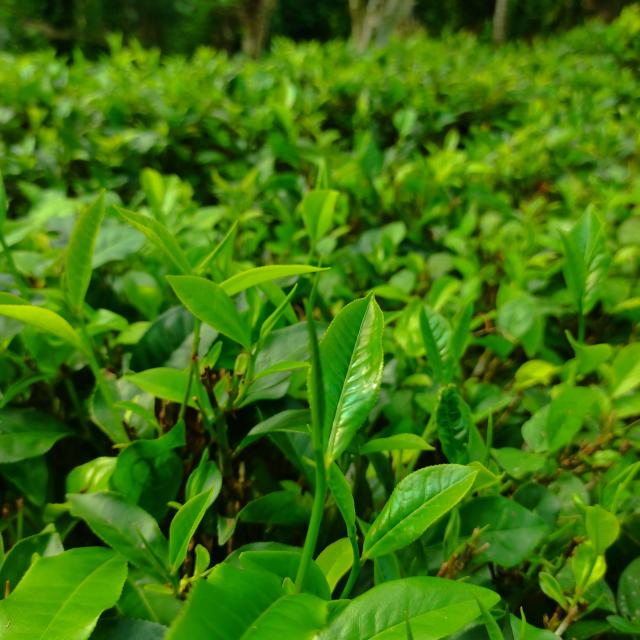unopened_leaf: (298, 293, 333, 480), (252, 277, 302, 352), (134, 528, 184, 590), (297, 252, 333, 328), (186, 442, 214, 505), (475, 408, 505, 464), (585, 218, 615, 270), (597, 462, 613, 514)
